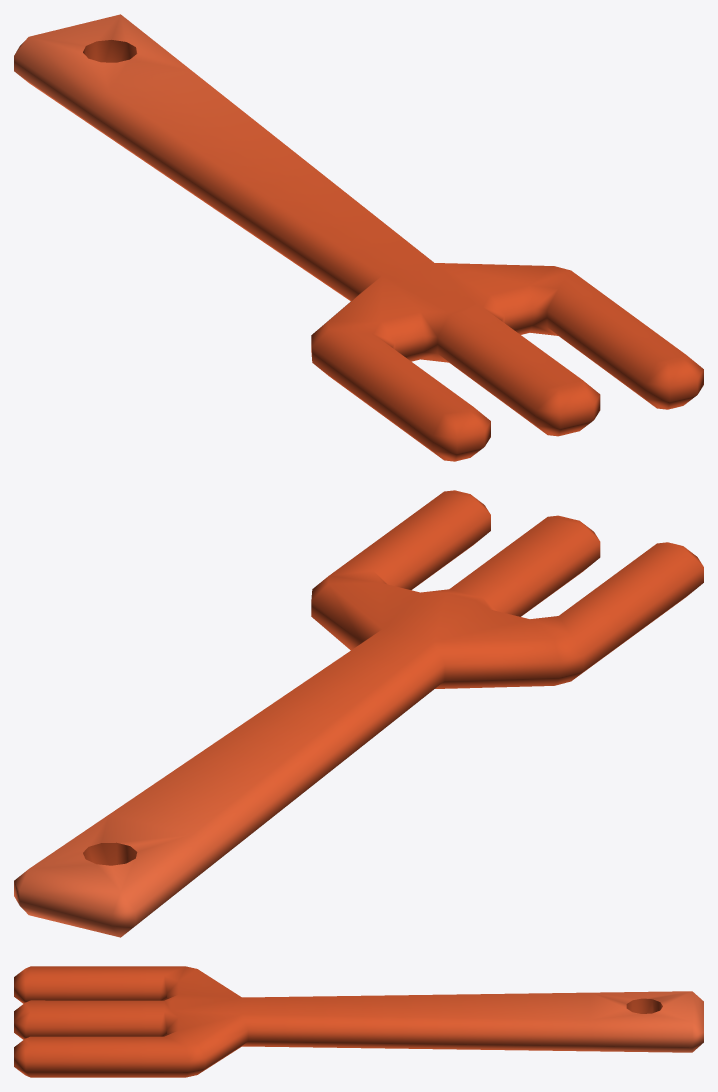
The model's file is Utensils_003.fbx.
3 renders of one model, top to bottom at view 1: azimuth 30°, elevation 25°; view 2: azimuth 150°, elevation 25°; view 3: azimuth 270°, elevation 25°, orthographic. The views are drawn at different scales.
Visible parts, largest first — view 1: Utensils_003; view 2: Utensils_003; view 3: Utensils_003.
Part boxes in pixels (x1,y1,x2,y2): Utensils_003: (14,14,703,461); Utensils_003: (14,490,703,937); Utensils_003: (14,966,703,1077).
Bounding box in the file's own units: 0.0628 × 0.0106 × 0.2049.
